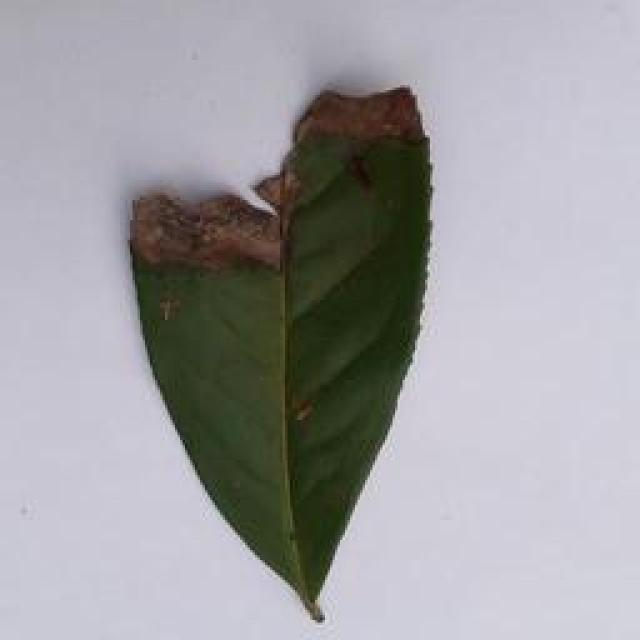Brown Blight: (108, 62, 445, 634)
